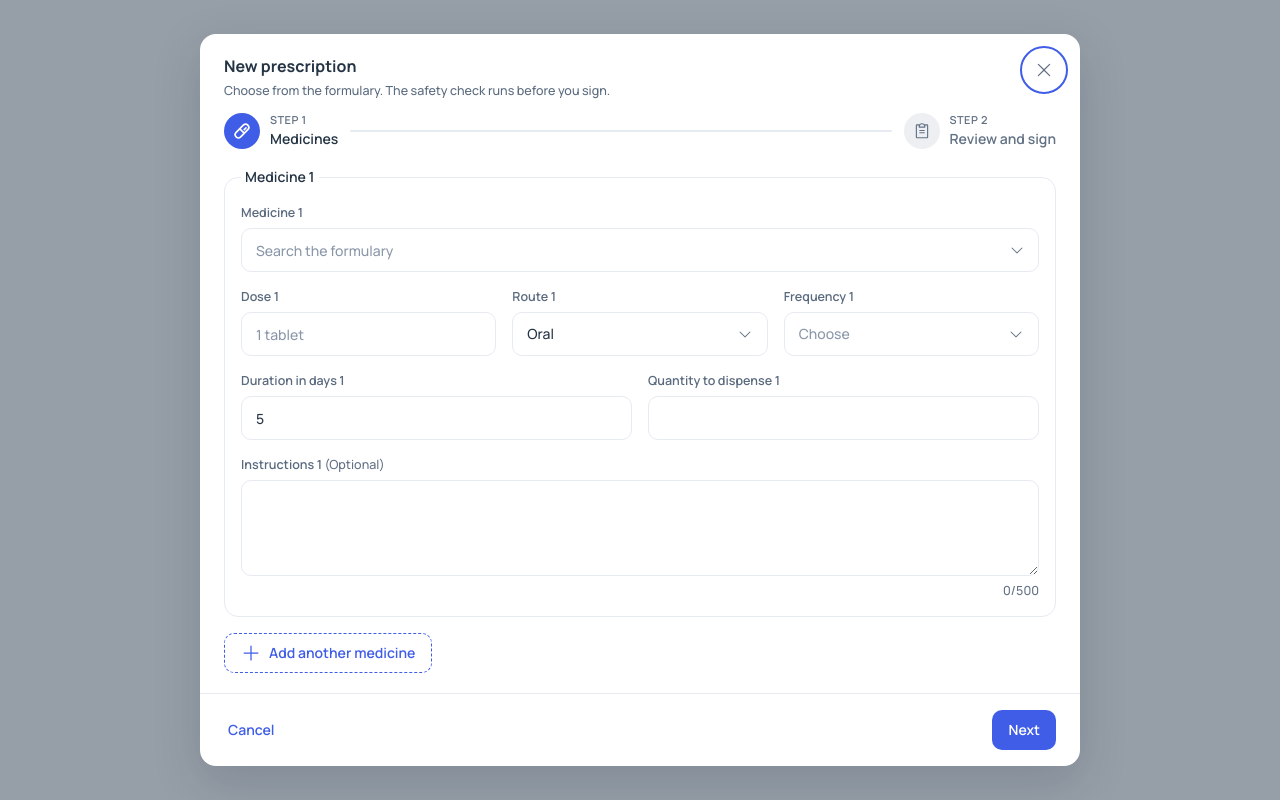
prescription wizard (FR-5.x, SEC-09) › stays on the medicines step with inline errors until the form is complete
Click the button "Next". click: (1024, 730)
box: [992,710,1056,750]
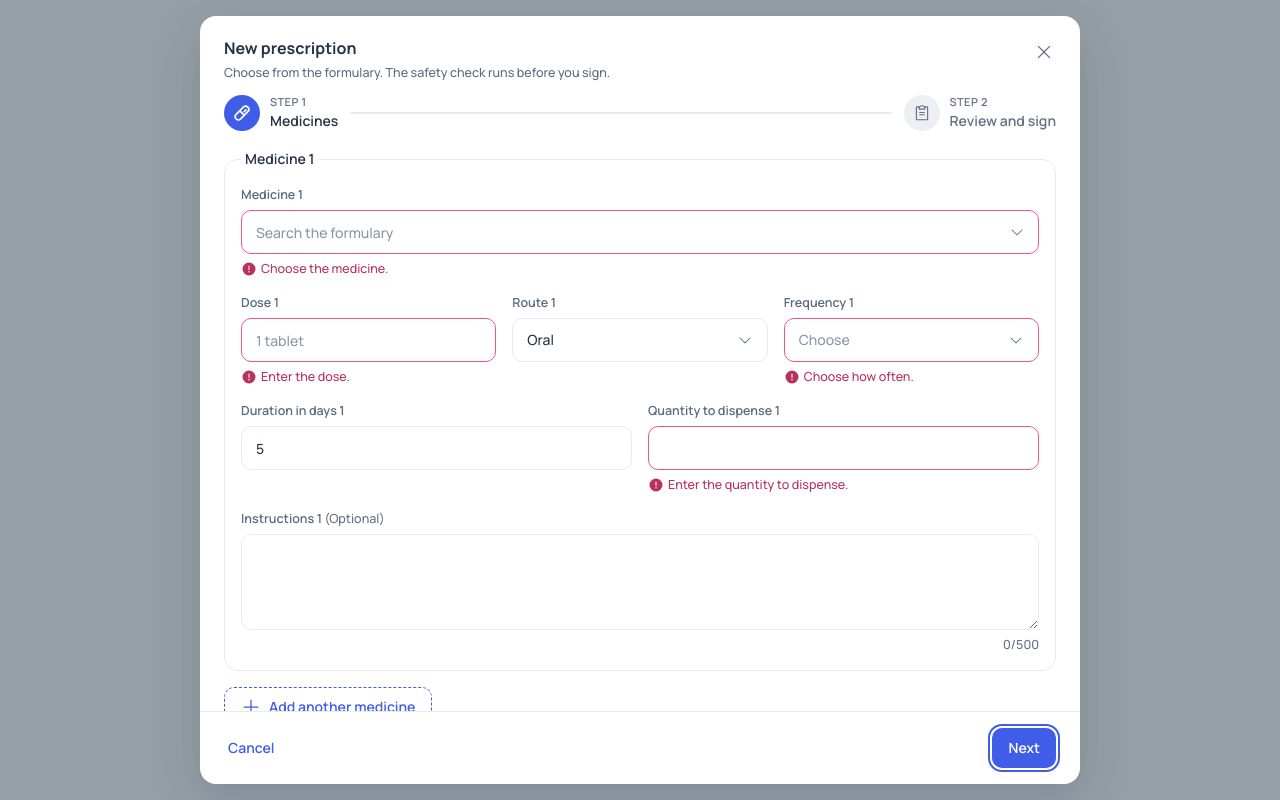
expect the text "Choose the medicine." is shown: met, box [241,260,388,278]
expect the text "Enter the dose." is shown: met, box [241,368,350,386]
expect the text "Choose how often." is shown: met, box [784,368,914,386]
